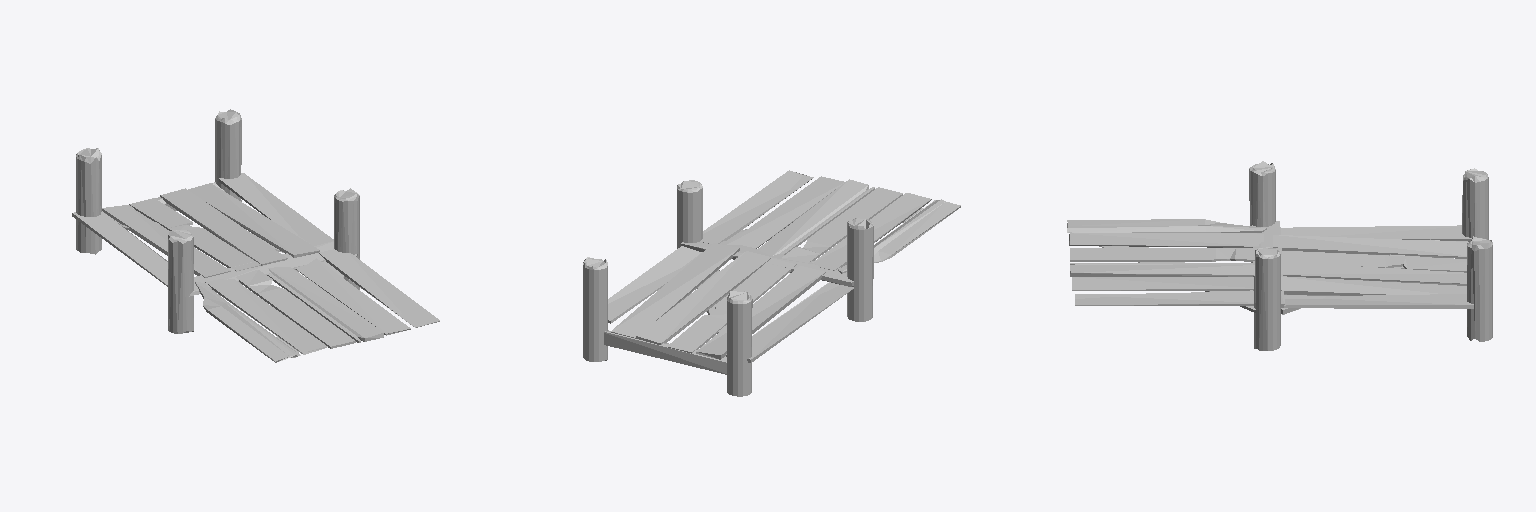
Rendered from wood_pier.obj.
The picture shows the model from 3 angles: view 1: azimuth 30°, elevation 25°; view 2: azimuth 150°, elevation 25°; view 3: azimuth 270°, elevation 25°; orthographic projection.
Parts seen in each view (by area): view 1: Cylinder.002; view 2: Cylinder.002; view 3: Cylinder.002.
Boxes of the visible parts, x1,y1,x2,y2 form: Cylinder.002: [72, 109, 439, 362]; Cylinder.002: [583, 170, 960, 396]; Cylinder.002: [1067, 161, 1492, 350].
Bounding box in the file's own units: 4.59 × 2.37 × 8.83.